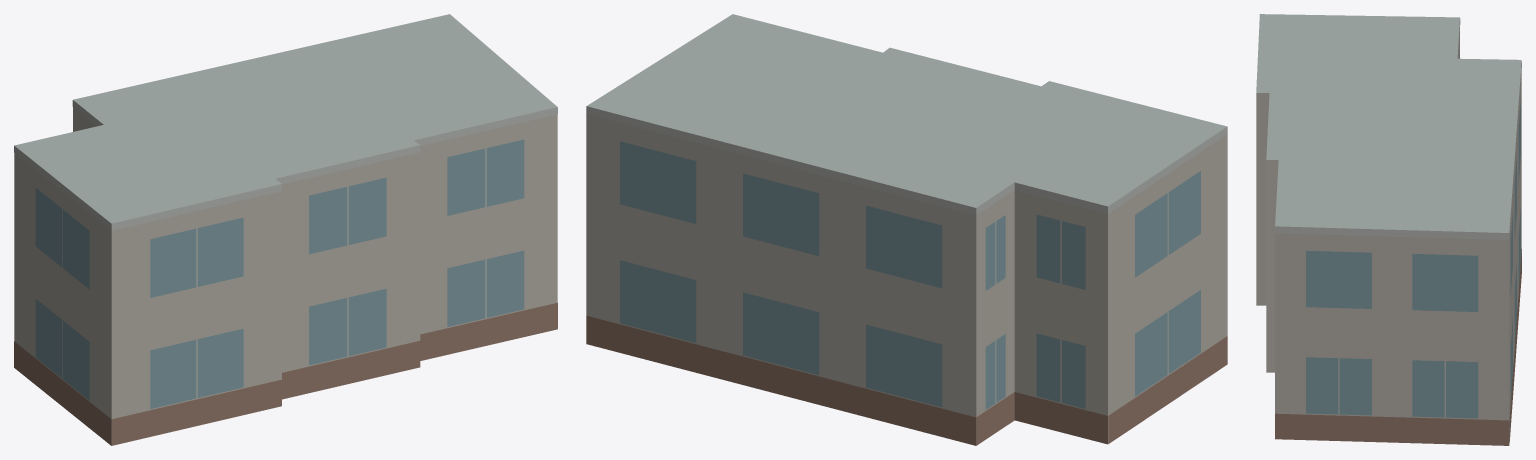
Rendered from survey-upis-32814120.glb.
3 views of the same model, side by side, from view 1: azimuth 30°, elevation 25°; view 2: azimuth 150°, elevation 25°; view 3: azimuth 270°, elevation 25° (orthographic). The views are drawn at different scales.
Visible parts, largest first — view 1: survey-upis-32814120.tmp; view 2: survey-upis-32814120.tmp; view 3: survey-upis-32814120.tmp.
Part boxes in pixels (bbox=[...]): survey-upis-32814120.tmp: bbox=[14, 14, 557, 445]; survey-upis-32814120.tmp: bbox=[586, 14, 1227, 445]; survey-upis-32814120.tmp: bbox=[1256, 14, 1521, 445].
Size of the model in its own units: 16.79 by 7.6 by 8.61.
